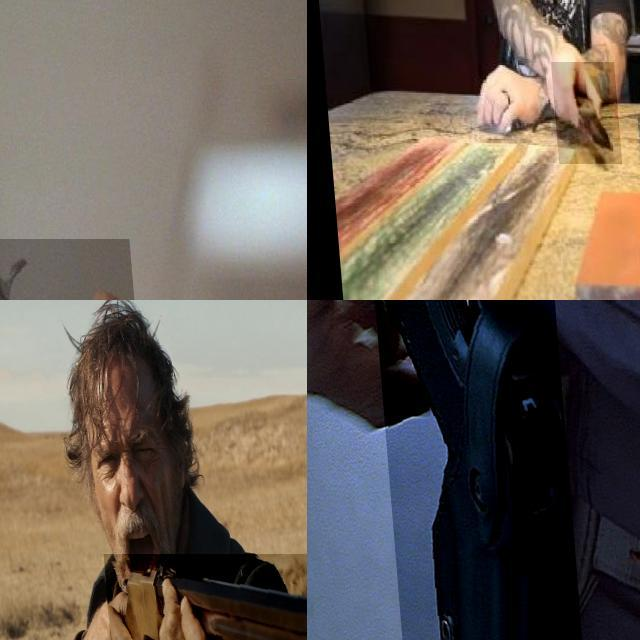-: (544, 62, 614, 165)
gun-knife-thesis - v11 Yolov5 augmented: (365, 300, 583, 640), (99, 553, 307, 640)
